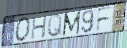9: (81, 9, 95, 34)
F: (95, 5, 114, 33)
H: (30, 14, 48, 41)
M: (62, 10, 81, 37)
O: (15, 17, 32, 43)
Q: (47, 13, 63, 38)
